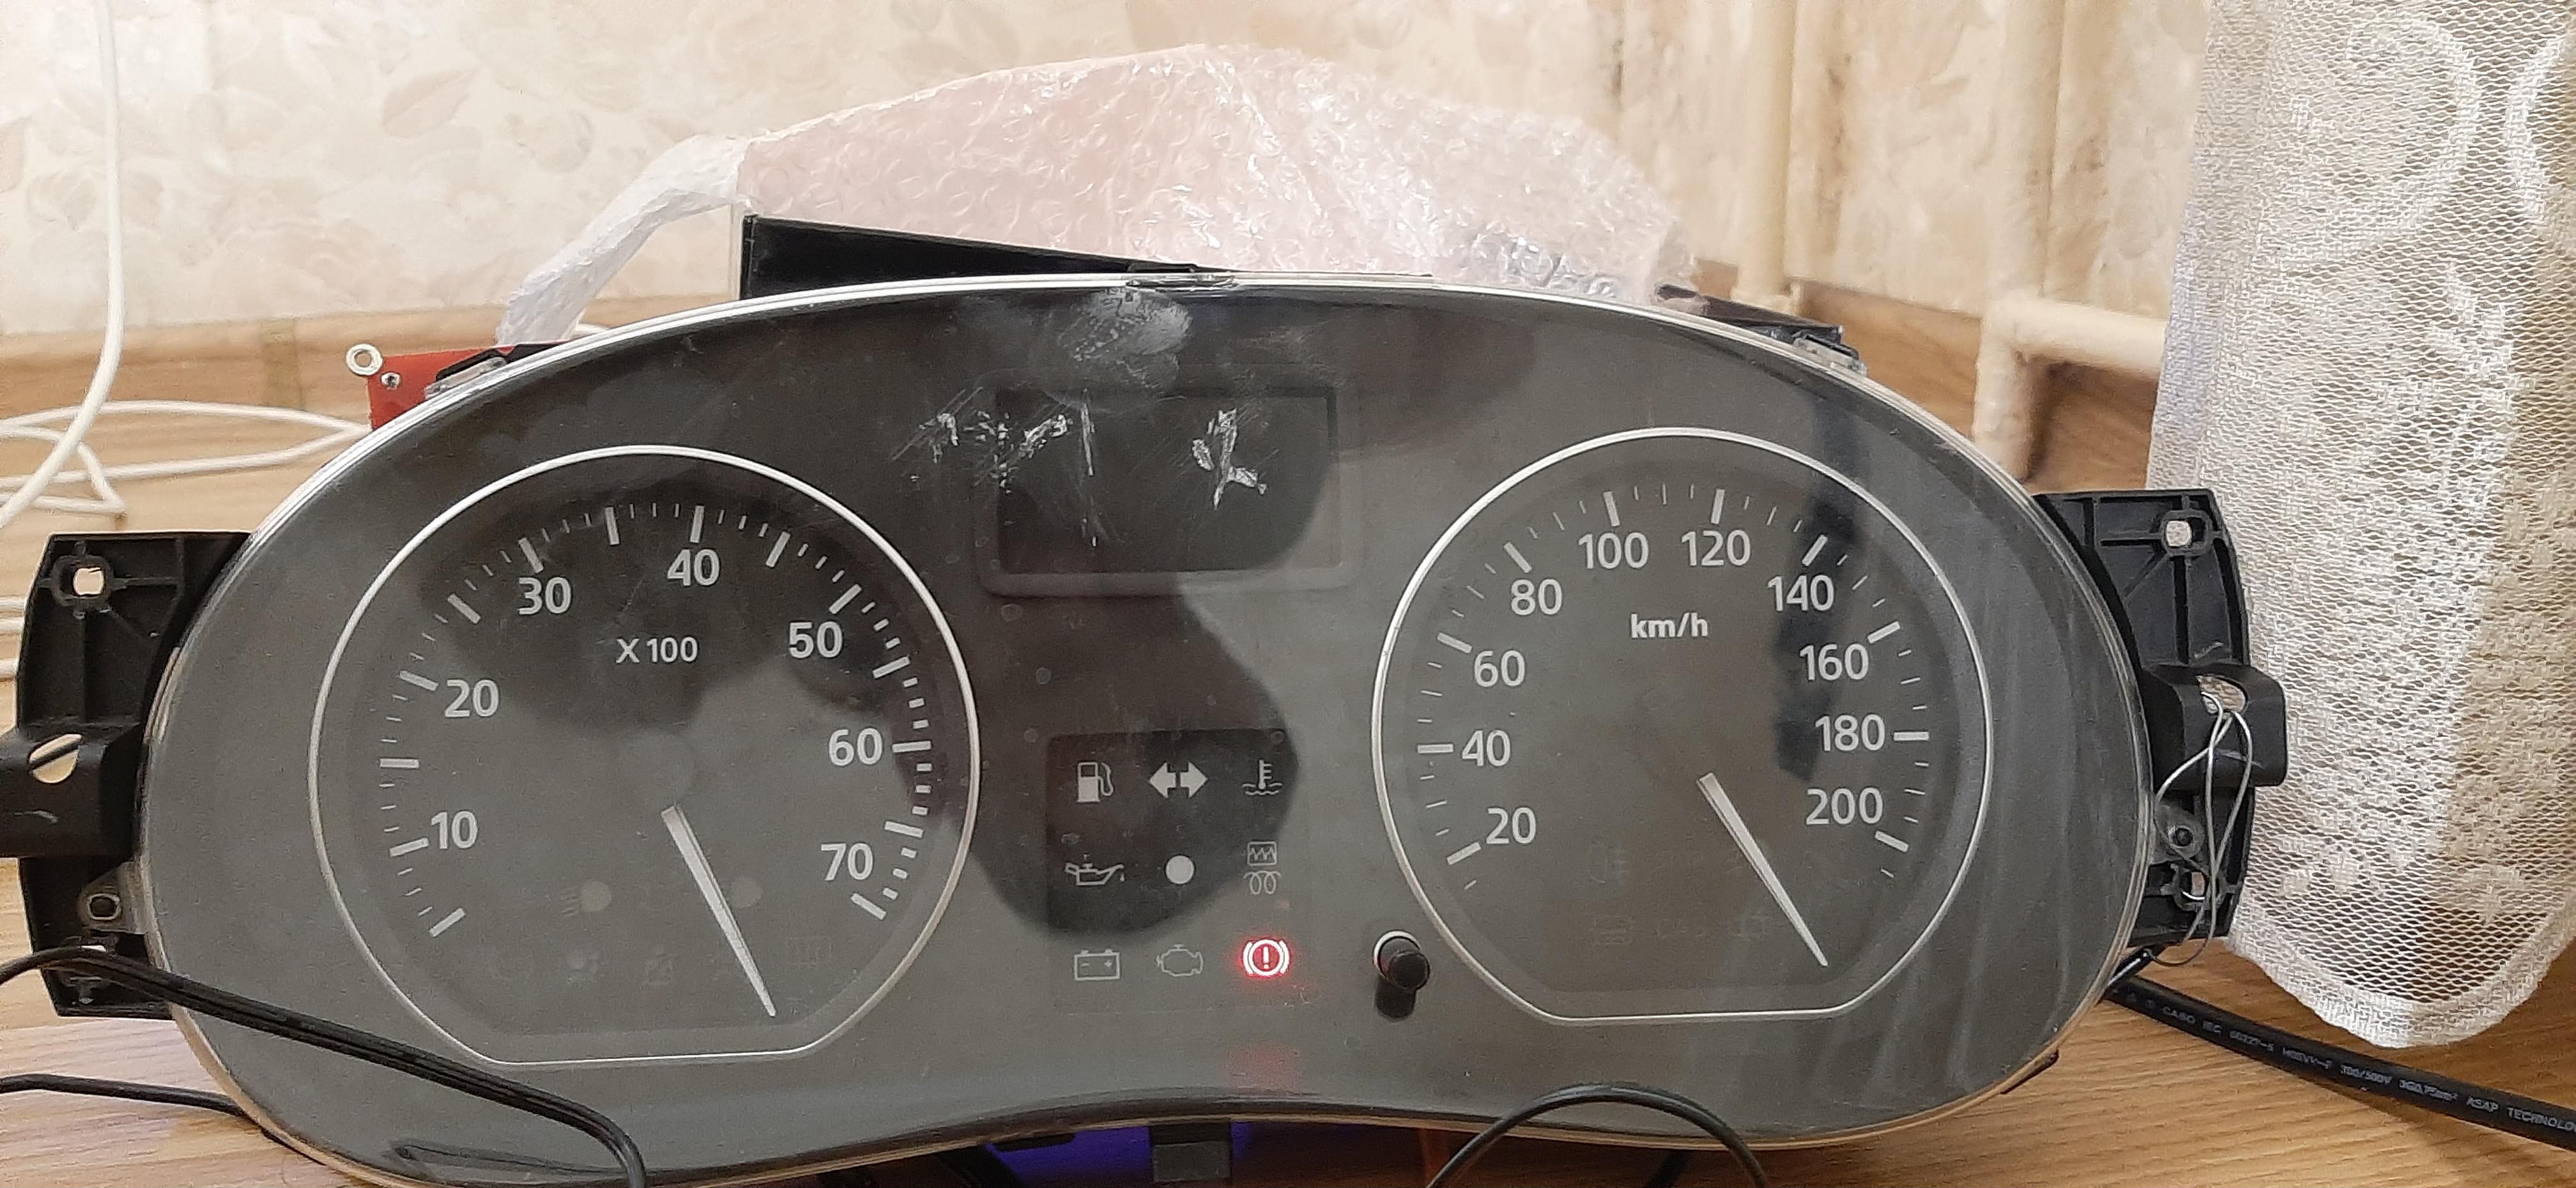brake3: (1242, 938, 1290, 978)
